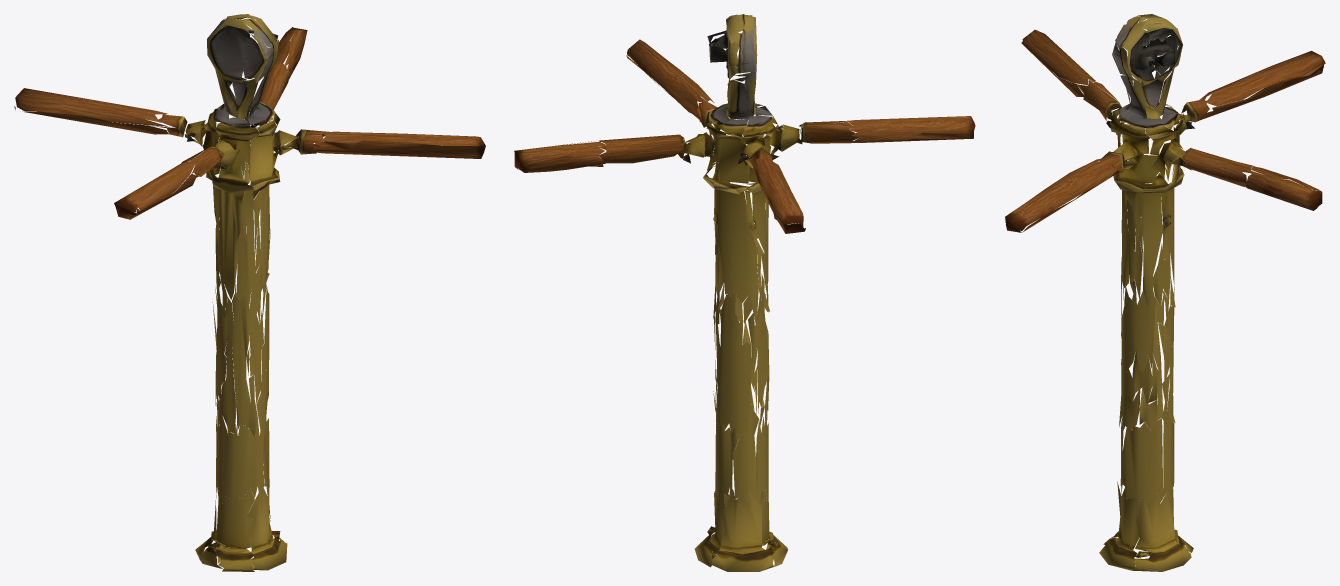
The model's file is turnstile.glb.
The picture shows the model from 3 angles, left to right: view 1: azimuth 30°, elevation 25°; view 2: azimuth 150°, elevation 25°; view 3: azimuth 270°, elevation 25°; orthographic projection.
Parts seen in each view (by area): view 1: tripo_node_e36b7950-eebc-46e4-a51a-1e8ce741dae1; view 2: tripo_node_e36b7950-eebc-46e4-a51a-1e8ce741dae1; view 3: tripo_node_e36b7950-eebc-46e4-a51a-1e8ce741dae1.
Part boxes in pixels (box(x1,y1,x2,y2)): tripo_node_e36b7950-eebc-46e4-a51a-1e8ce741dae1: box(14, 14, 485, 571); tripo_node_e36b7950-eebc-46e4-a51a-1e8ce741dae1: box(514, 14, 975, 571); tripo_node_e36b7950-eebc-46e4-a51a-1e8ce741dae1: box(1005, 14, 1325, 571).
Size of the model in its own units: 0.6987 by 1 by 0.5421.
Materials: 1 (1 with a texture image).
